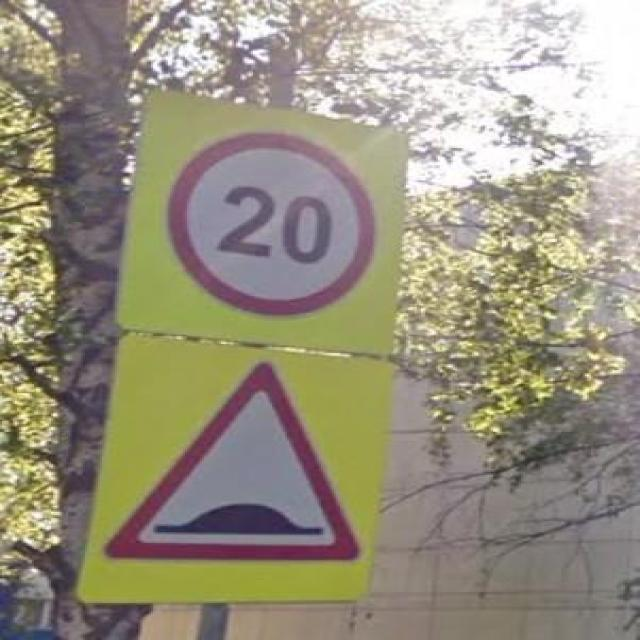traffic_sign: (102, 358, 362, 564), (164, 130, 380, 319)
